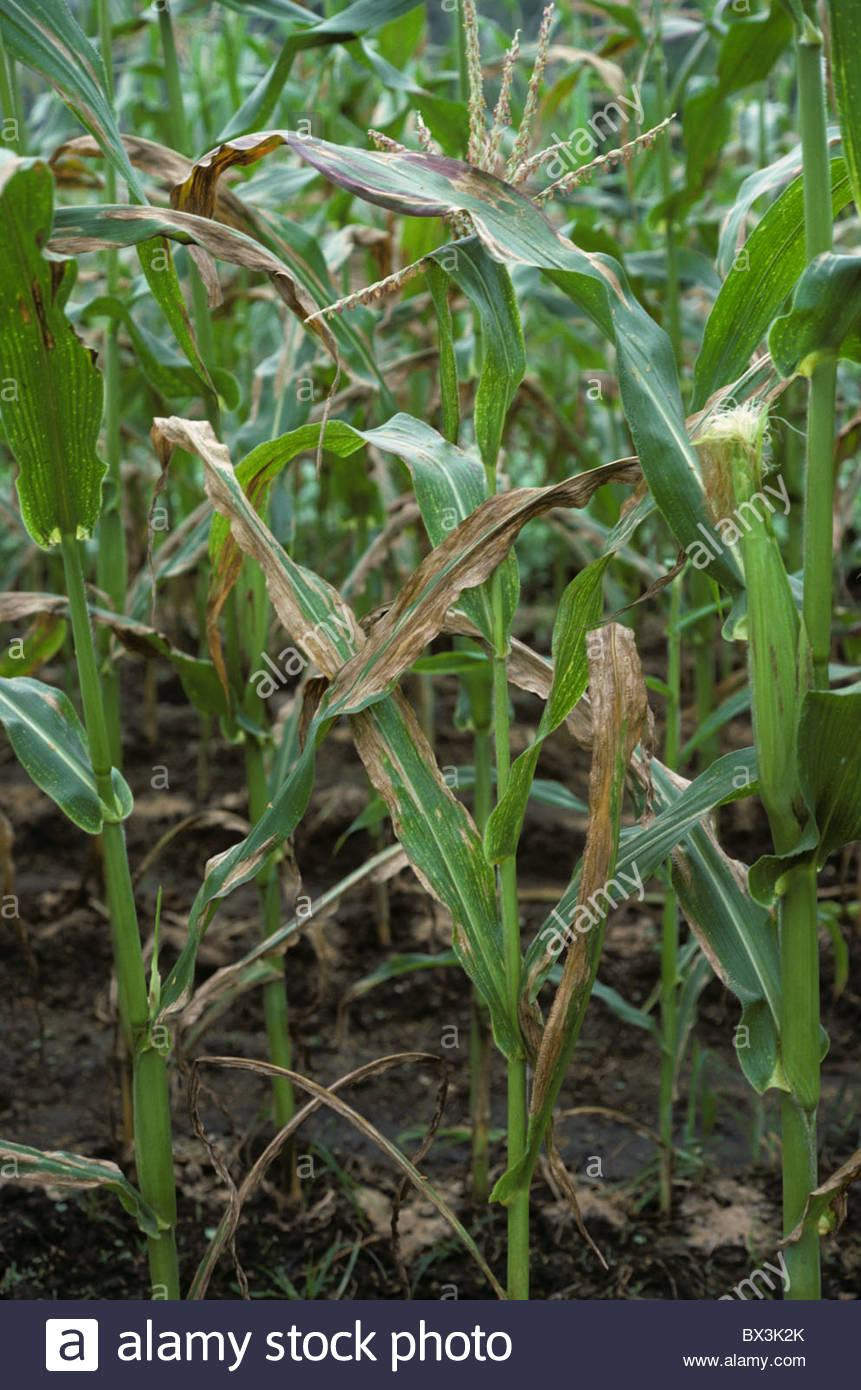Corn leaf blight: (152, 455, 658, 1008), (170, 132, 738, 579), (149, 409, 498, 1036), (518, 616, 649, 1179), (52, 205, 363, 391), (2, 132, 115, 589)
